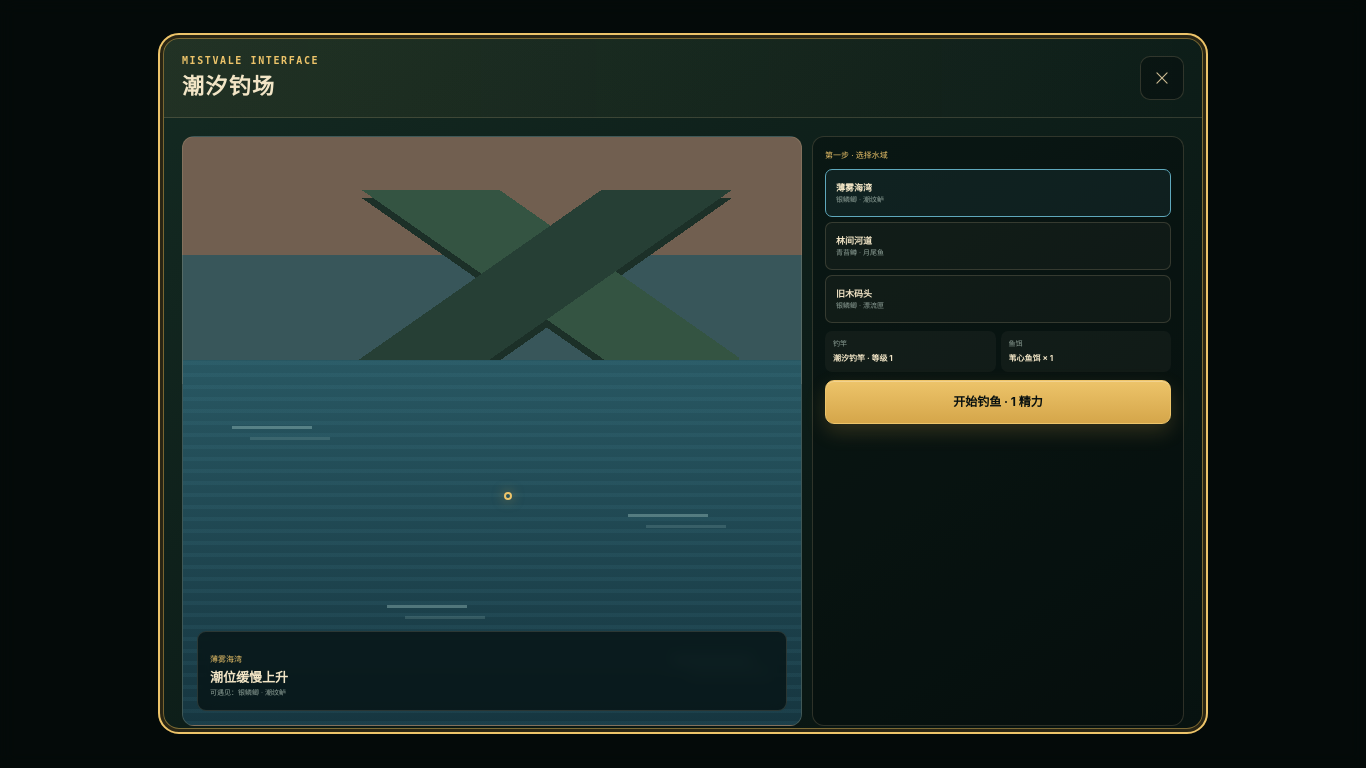
Test: 潮汐节奏钓鱼 › 消耗一点精力并在绿色时机钓到银鳞鲫
Click the button with aria-label "开始钓鱼，消耗1精力" at (998, 402), box [825, 380, 1171, 424]
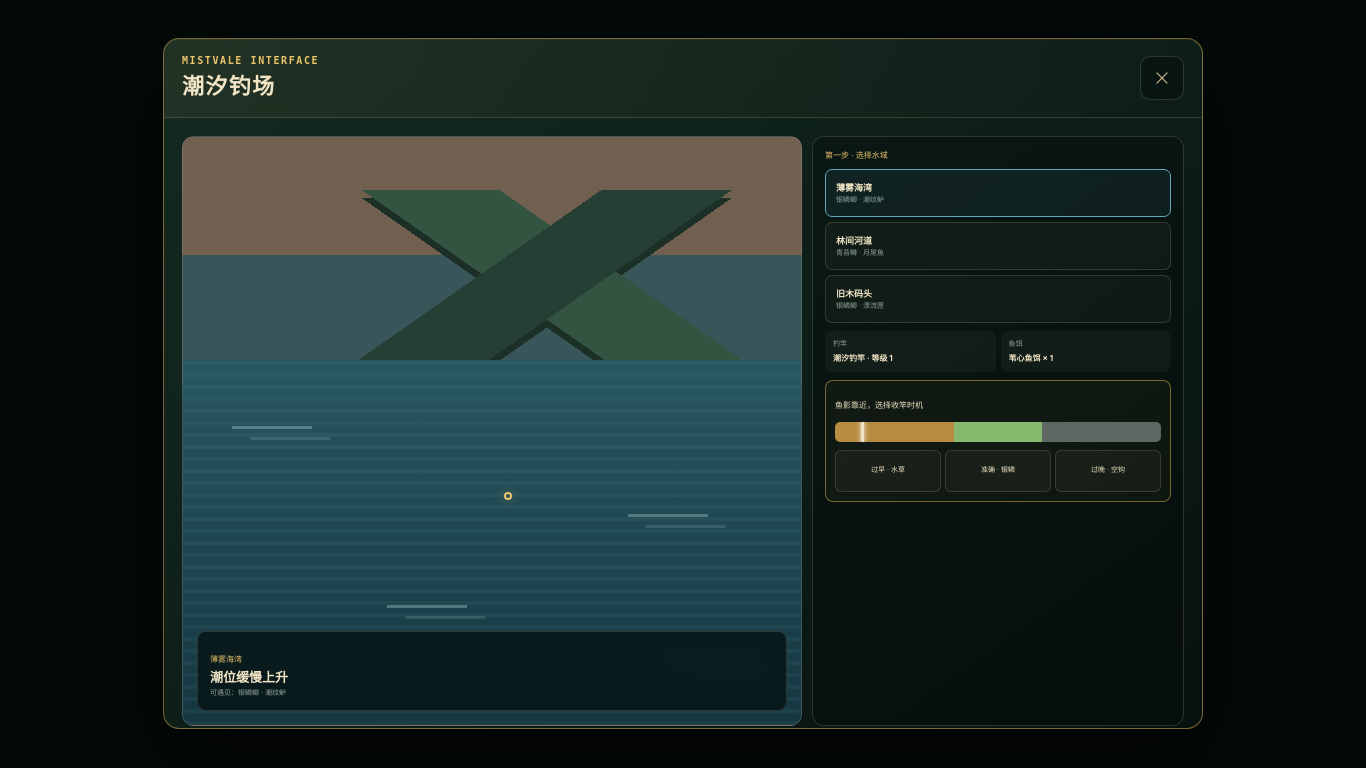
Click the button with aria-label "在绿色时机收竿" at (998, 471), box [945, 450, 1051, 492]
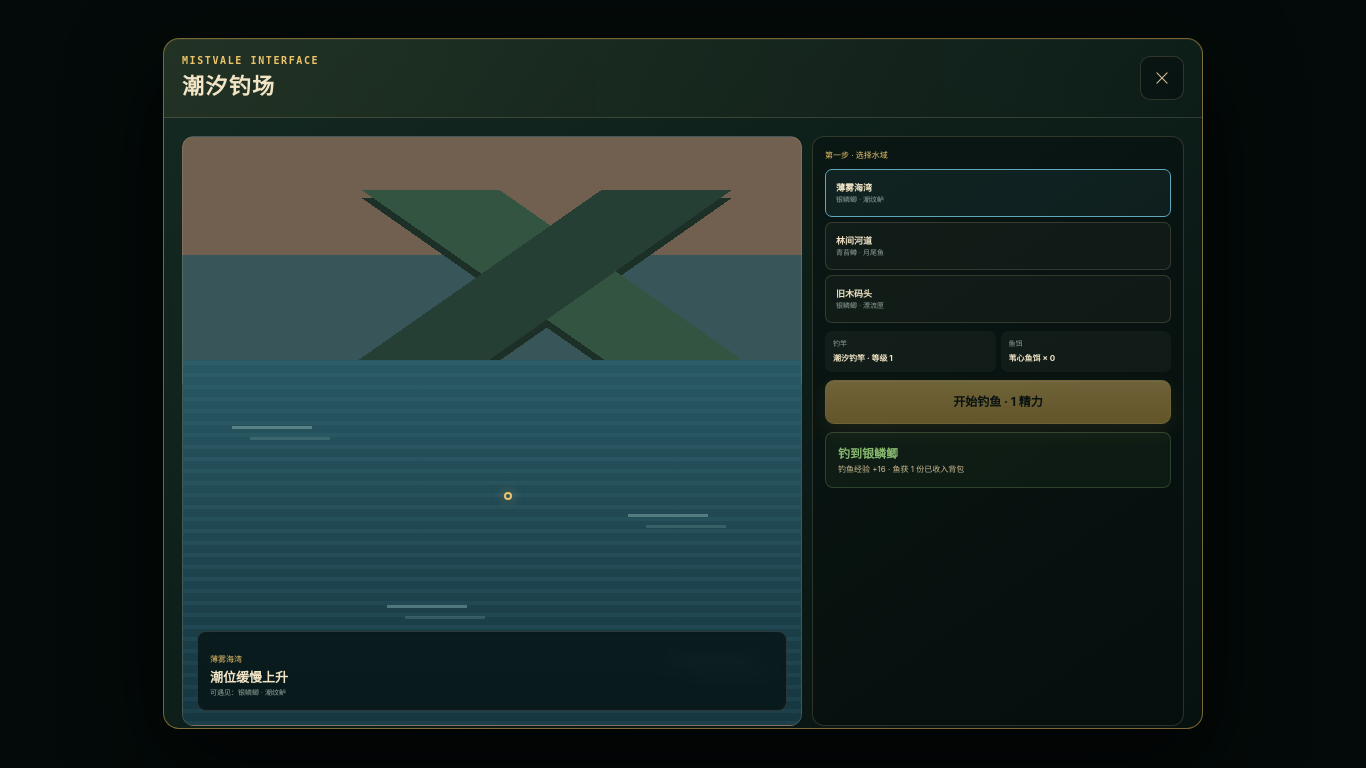
Expected: the text "钓到银鳞鲫" is shown, [838, 446, 898, 461]
Expected: the text "钓鱼经验 +16 · 鱼获 1 份已收入背包" is shown, [838, 464, 964, 474]
